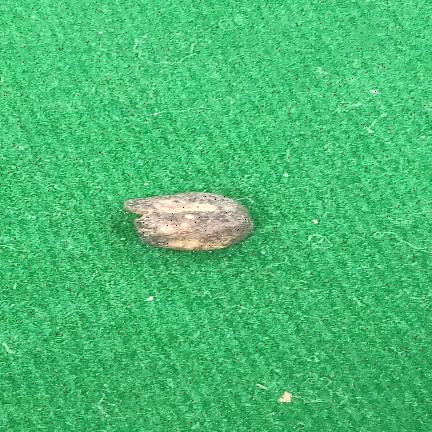partial-black: (124, 192, 253, 251)
